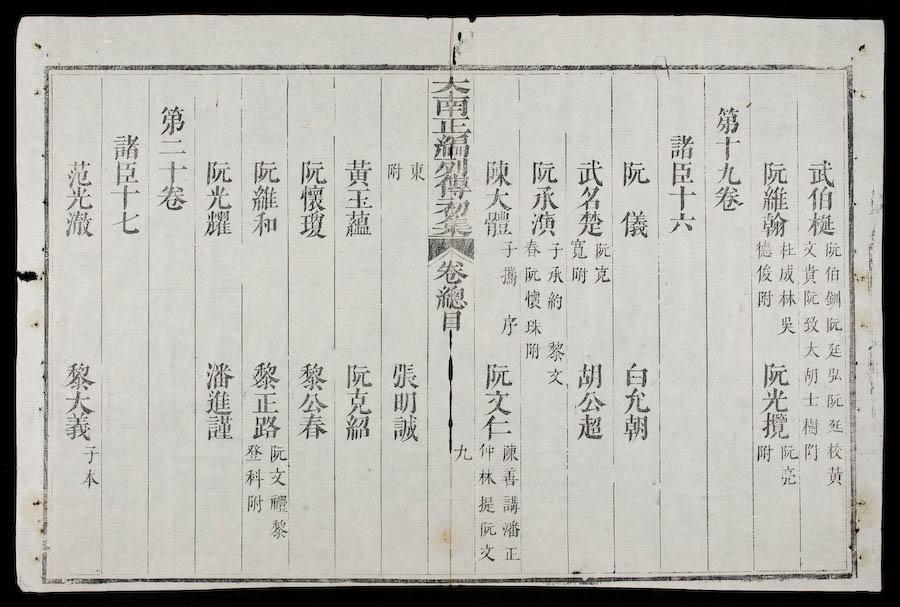c: (156, 102, 187, 136), (430, 134, 471, 159), (61, 360, 95, 390), (619, 208, 651, 239), (202, 359, 235, 389), (431, 216, 474, 239), (432, 258, 470, 284), (430, 94, 471, 118), (60, 413, 95, 441), (429, 74, 473, 96), (712, 104, 743, 135), (249, 359, 280, 390), (432, 175, 472, 199), (342, 157, 374, 187), (61, 210, 95, 238), (296, 360, 327, 390), (62, 158, 94, 187), (804, 158, 837, 186), (388, 415, 421, 443), (201, 210, 234, 238), (155, 184, 189, 211), (574, 361, 605, 390), (619, 159, 650, 188), (574, 157, 605, 186), (389, 360, 420, 389), (482, 158, 513, 187), (666, 132, 697, 161), (342, 210, 374, 238), (574, 413, 606, 441), (295, 413, 328, 440), (202, 414, 235, 441), (712, 185, 745, 212), (434, 285, 468, 311), (620, 414, 651, 442), (482, 361, 513, 389), (110, 132, 141, 160), (574, 210, 605, 238), (759, 412, 791, 439), (666, 184, 698, 211), (482, 211, 514, 238), (431, 158, 472, 179), (479, 415, 513, 440), (804, 212, 838, 237), (250, 413, 281, 440), (620, 360, 651, 387), (250, 158, 281, 185), (759, 159, 790, 186), (296, 158, 327, 185), (296, 185, 327, 212), (110, 210, 142, 236), (804, 186, 836, 212), (296, 213, 328, 239), (758, 186, 790, 212), (61, 390, 95, 414), (760, 360, 790, 387), (343, 362, 373, 389), (342, 415, 372, 442), (621, 387, 651, 414), (343, 388, 373, 415), (203, 158, 233, 185), (759, 387, 790, 413), (482, 390, 513, 416), (528, 211, 559, 237), (528, 159, 559, 185), (249, 185, 280, 211), (62, 186, 94, 211), (666, 211, 698, 236), (528, 186, 560, 211), (156, 159, 189, 183), (111, 160, 141, 186), (203, 185, 233, 211), (249, 212, 280, 237), (758, 213, 789, 238), (203, 389, 234, 414), (430, 117, 473, 135), (109, 185, 141, 209), (712, 135, 742, 160), (575, 390, 606, 414), (296, 391, 328, 414), (575, 186, 604, 211), (713, 161, 742, 186), (250, 391, 281, 414), (482, 188, 513, 211), (342, 188, 374, 210), (668, 161, 696, 186), (390, 390, 418, 414), (432, 200, 472, 216), (156, 137, 188, 157), (437, 311, 465, 333), (823, 464, 846, 487), (497, 313, 519, 337), (78, 467, 100, 490), (267, 517, 289, 539), (799, 414, 821, 436), (544, 366, 566, 388), (775, 314, 797, 336), (243, 466, 265, 488), (499, 493, 521, 515), (568, 238, 589, 261), (498, 264, 519, 287), (545, 340, 566, 363), (778, 465, 799, 487), (776, 263, 797, 285), (823, 288, 844, 310), (267, 492, 288, 514), (776, 288, 798, 309), (522, 289, 543, 311), (800, 365, 821, 386), (824, 440, 845, 461), (476, 494, 497, 515), (754, 239, 775, 260), (499, 518, 521, 538), (79, 443, 99, 465), (499, 466, 519, 488), (475, 467, 497, 487), (384, 161, 404, 183), (522, 238, 542, 260), (754, 263, 774, 285), (407, 160, 426, 183), (824, 415, 845, 435), (824, 390, 845, 410), (477, 542, 497, 563), (823, 340, 844, 360), (822, 240, 843, 260), (801, 339, 821, 360), (497, 239, 518, 259), (267, 465, 287, 486), (801, 313, 821, 334), (591, 264, 611, 285), (244, 492, 264, 513), (523, 317, 544, 337), (822, 314, 844, 333), (801, 263, 820, 285), (801, 441, 821, 461), (822, 264, 842, 284), (522, 341, 542, 361), (569, 265, 589, 285), (244, 442, 264, 462), (267, 443, 287, 463), (544, 291, 564, 311), (545, 265, 565, 285), (477, 441, 496, 462), (778, 443, 799, 462), (755, 442, 774, 463), (500, 442, 519, 463), (755, 288, 774, 309), (453, 442, 472, 462), (777, 240, 796, 260), (477, 519, 497, 538), (545, 240, 564, 260), (522, 265, 542, 284), (800, 390, 821, 408), (824, 365, 843, 384), (592, 241, 611, 260), (801, 289, 820, 308), (801, 239, 819, 259), (500, 545, 521, 562)
